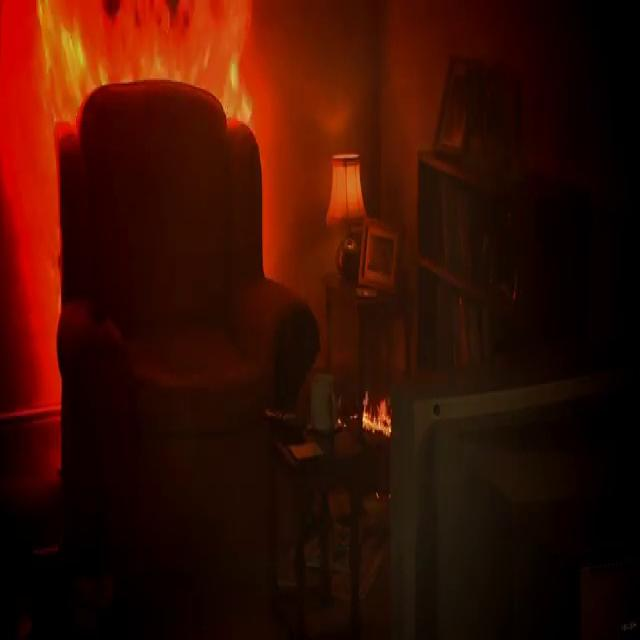fire: (26, 2, 310, 148), (354, 378, 404, 438)
